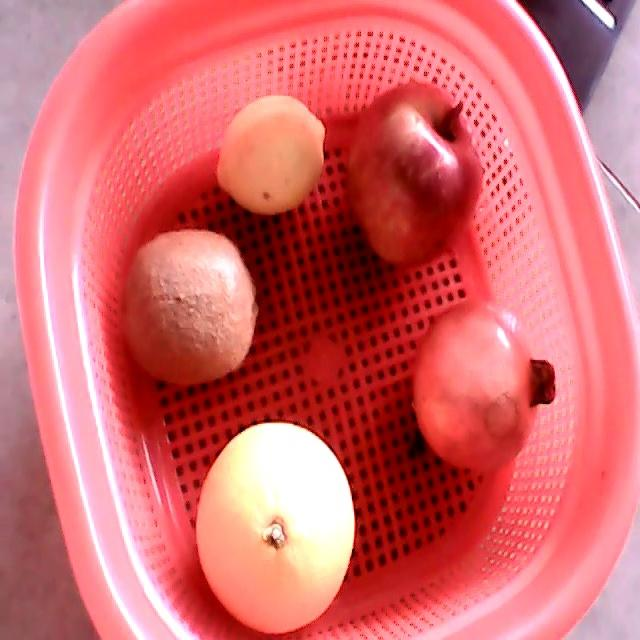apple: (346, 83, 483, 264)
kiwi: (120, 230, 261, 385)
lemon: (216, 95, 327, 215)
orange: (194, 421, 355, 637)
pomegranate: (412, 294, 556, 472)
